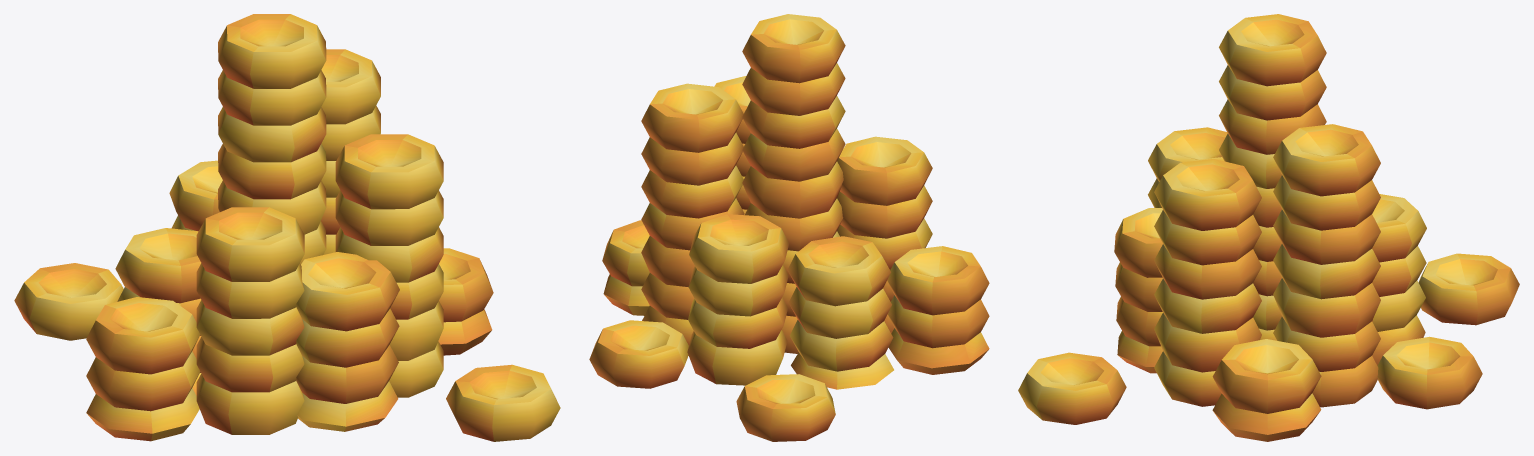
File: coin_stack_large_gltf.glb
3 views of the same model, side by side, from view 1: azimuth 30°, elevation 25°; view 2: azimuth 150°, elevation 25°; view 3: azimuth 270°, elevation 25° (orthographic). The views are drawn at different scales.
Visible parts, largest first — view 1: coin_stack_large; view 2: coin_stack_large; view 3: coin_stack_large.
Boxes of the visible parts, box(x1,y1,x2,y2) form: coin_stack_large: box(14, 14, 560, 441); coin_stack_large: box(589, 14, 989, 441); coin_stack_large: box(1018, 14, 1519, 441).
Size of the model in its own units: 1.44 by 1.16 by 1.66.
1 material, 1 textured.
